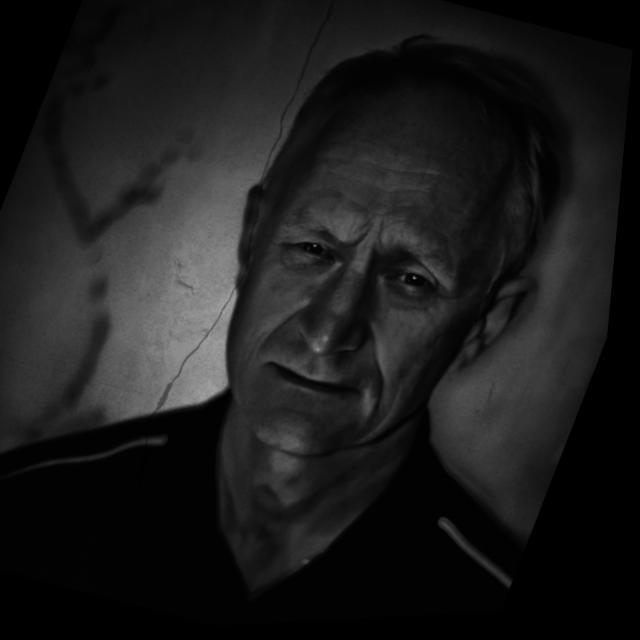Nonhelmet: (193, 30, 584, 483)
